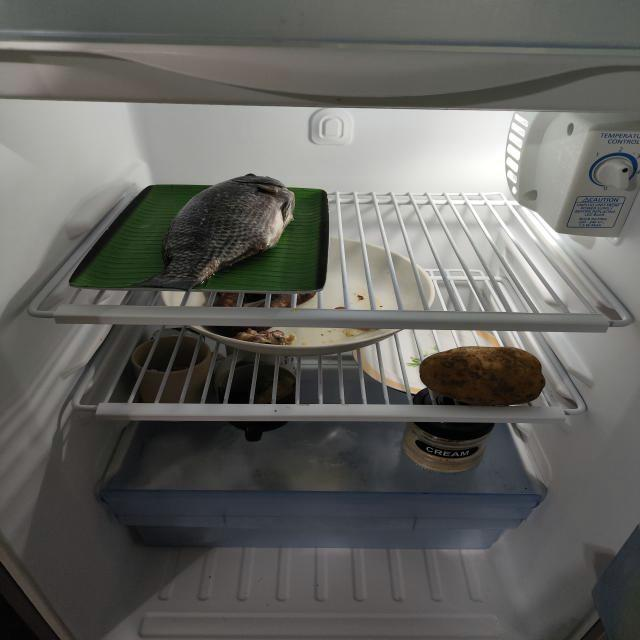fish: (144, 169, 297, 292)
potato: (419, 345, 548, 407)
